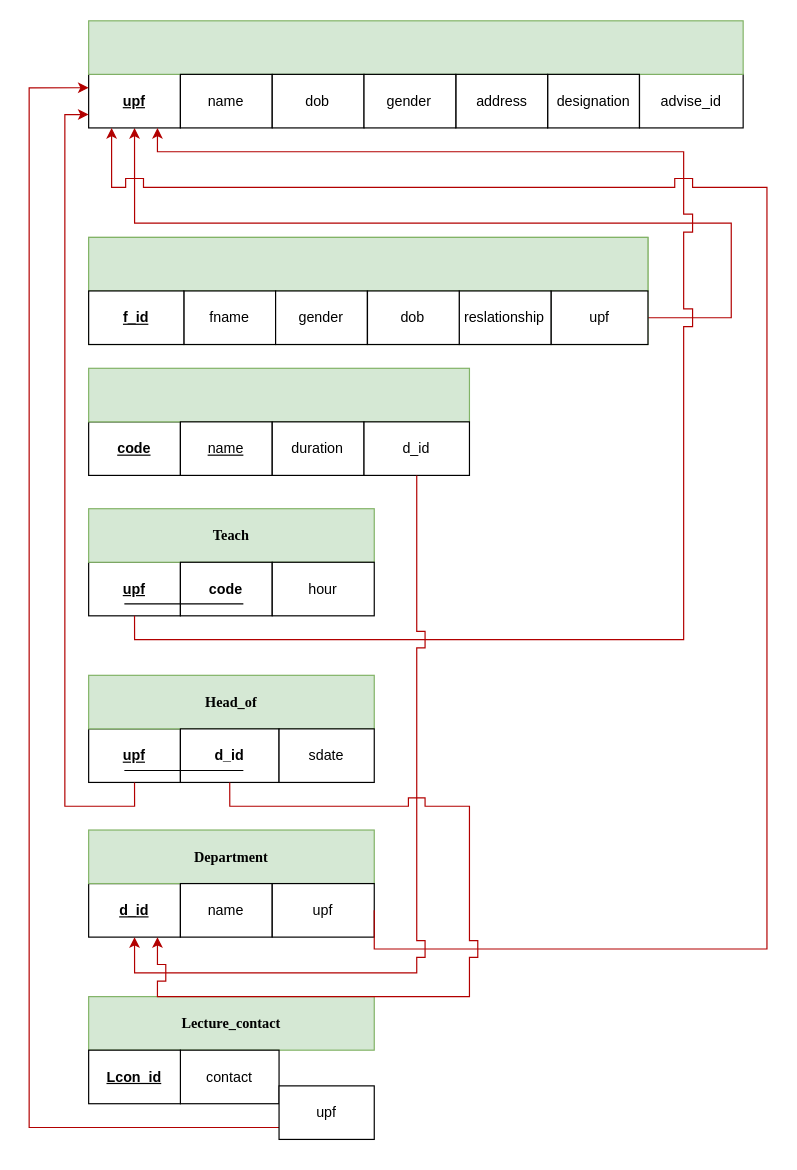
The diagram is 797 pixels wide and 1170 high, and some of its shapes have lost their labels. The shapes that lost their labels are listed below. From the top down, each one's centre as x and y in pixels, then its label:
point 415,47: Lecture
point 367,263: Family
point 278,394: Coures
